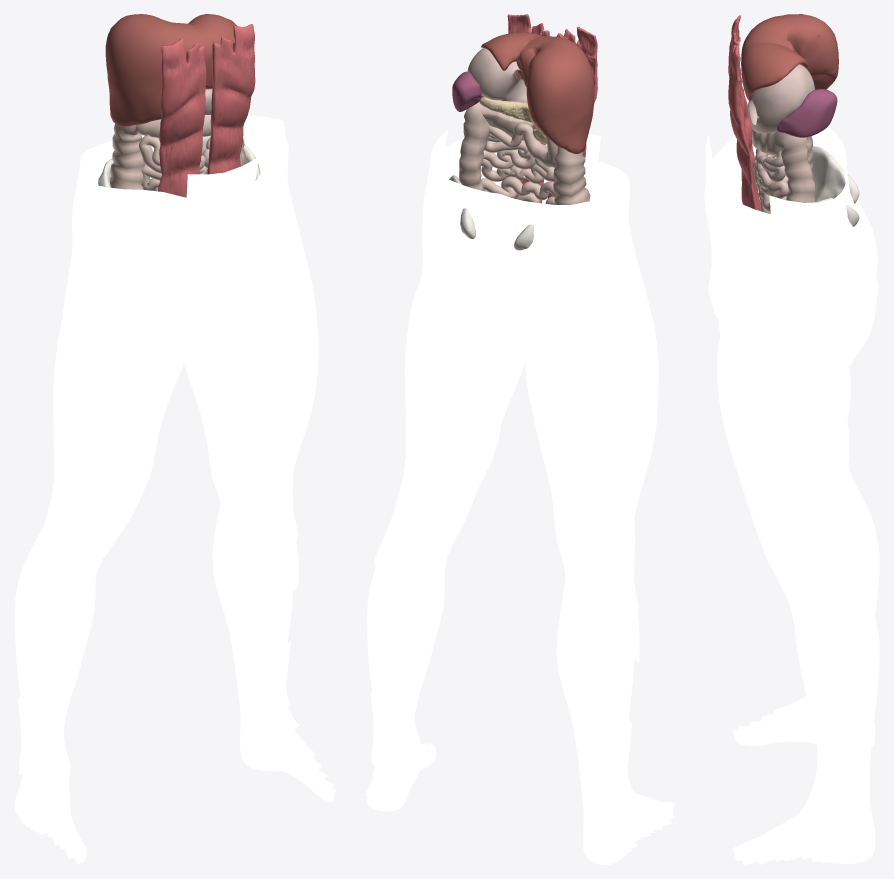
The model's file is submodel_gastrointestinal.glb.
The picture shows the model from 3 angles, left to right: view 1: azimuth 30°, elevation 25°; view 2: azimuth 150°, elevation 25°; view 3: azimuth 270°, elevation 25°; orthographic projection. The views are drawn at different scales.
Visible parts, largest first — view 1: Anatomy_Abdomen, Muscle_RectusAbdominis, Organ_Liver, Organ_Intestines; view 2: Anatomy_Abdomen, Organ_Intestines, Organ_Liver, Organ_Stomach, Muscle_RectusAbdominis, Organ_Spleen, Organ_Pancreas, Skeletal_Pelvis; view 3: Anatomy_Abdomen, Organ_Liver, Organ_Intestines, Muscle_RectusAbdominis, Organ_Stomach, Organ_Spleen, Skeletal_Pelvis.
Part boxes in pixels (left/top/right/bottom): Anatomy_Abdomen: left=14, top=115, right=336, bottom=864; Muscle_RectusAbdominis: left=158, top=24, right=255, bottom=197; Organ_Liver: left=105, top=14, right=236, bottom=126; Organ_Intestines: left=110, top=115, right=245, bottom=191; Anatomy_Abdomen: left=365, top=130, right=675, bottom=864; Organ_Intestines: left=459, top=102, right=590, bottom=204; Organ_Liver: left=481, top=32, right=594, bottom=153; Organ_Stomach: left=467, top=48, right=527, bottom=102; Muscle_RectusAbdominis: left=506, top=14, right=597, bottom=203; Organ_Spleen: left=452, top=71, right=483, bottom=111; Organ_Pancreas: left=479, top=97, right=547, bottom=144; Skeletal_Pelvis: left=449, top=175, right=533, bottom=250; Anatomy_Abdomen: left=704, top=127, right=879, bottom=864; Organ_Liver: left=741, top=14, right=838, bottom=100; Organ_Intestines: left=751, top=129, right=815, bottom=213; Muscle_RectusAbdominis: left=728, top=15, right=761, bottom=211; Organ_Stomach: left=748, top=64, right=814, bottom=133; Organ_Spleen: left=777, top=89, right=837, bottom=137; Skeletal_Pelvis: left=811, top=146, right=859, bottom=226.
Bounding box in the file's own units: 0.4499 × 1.34 × 0.2757.
